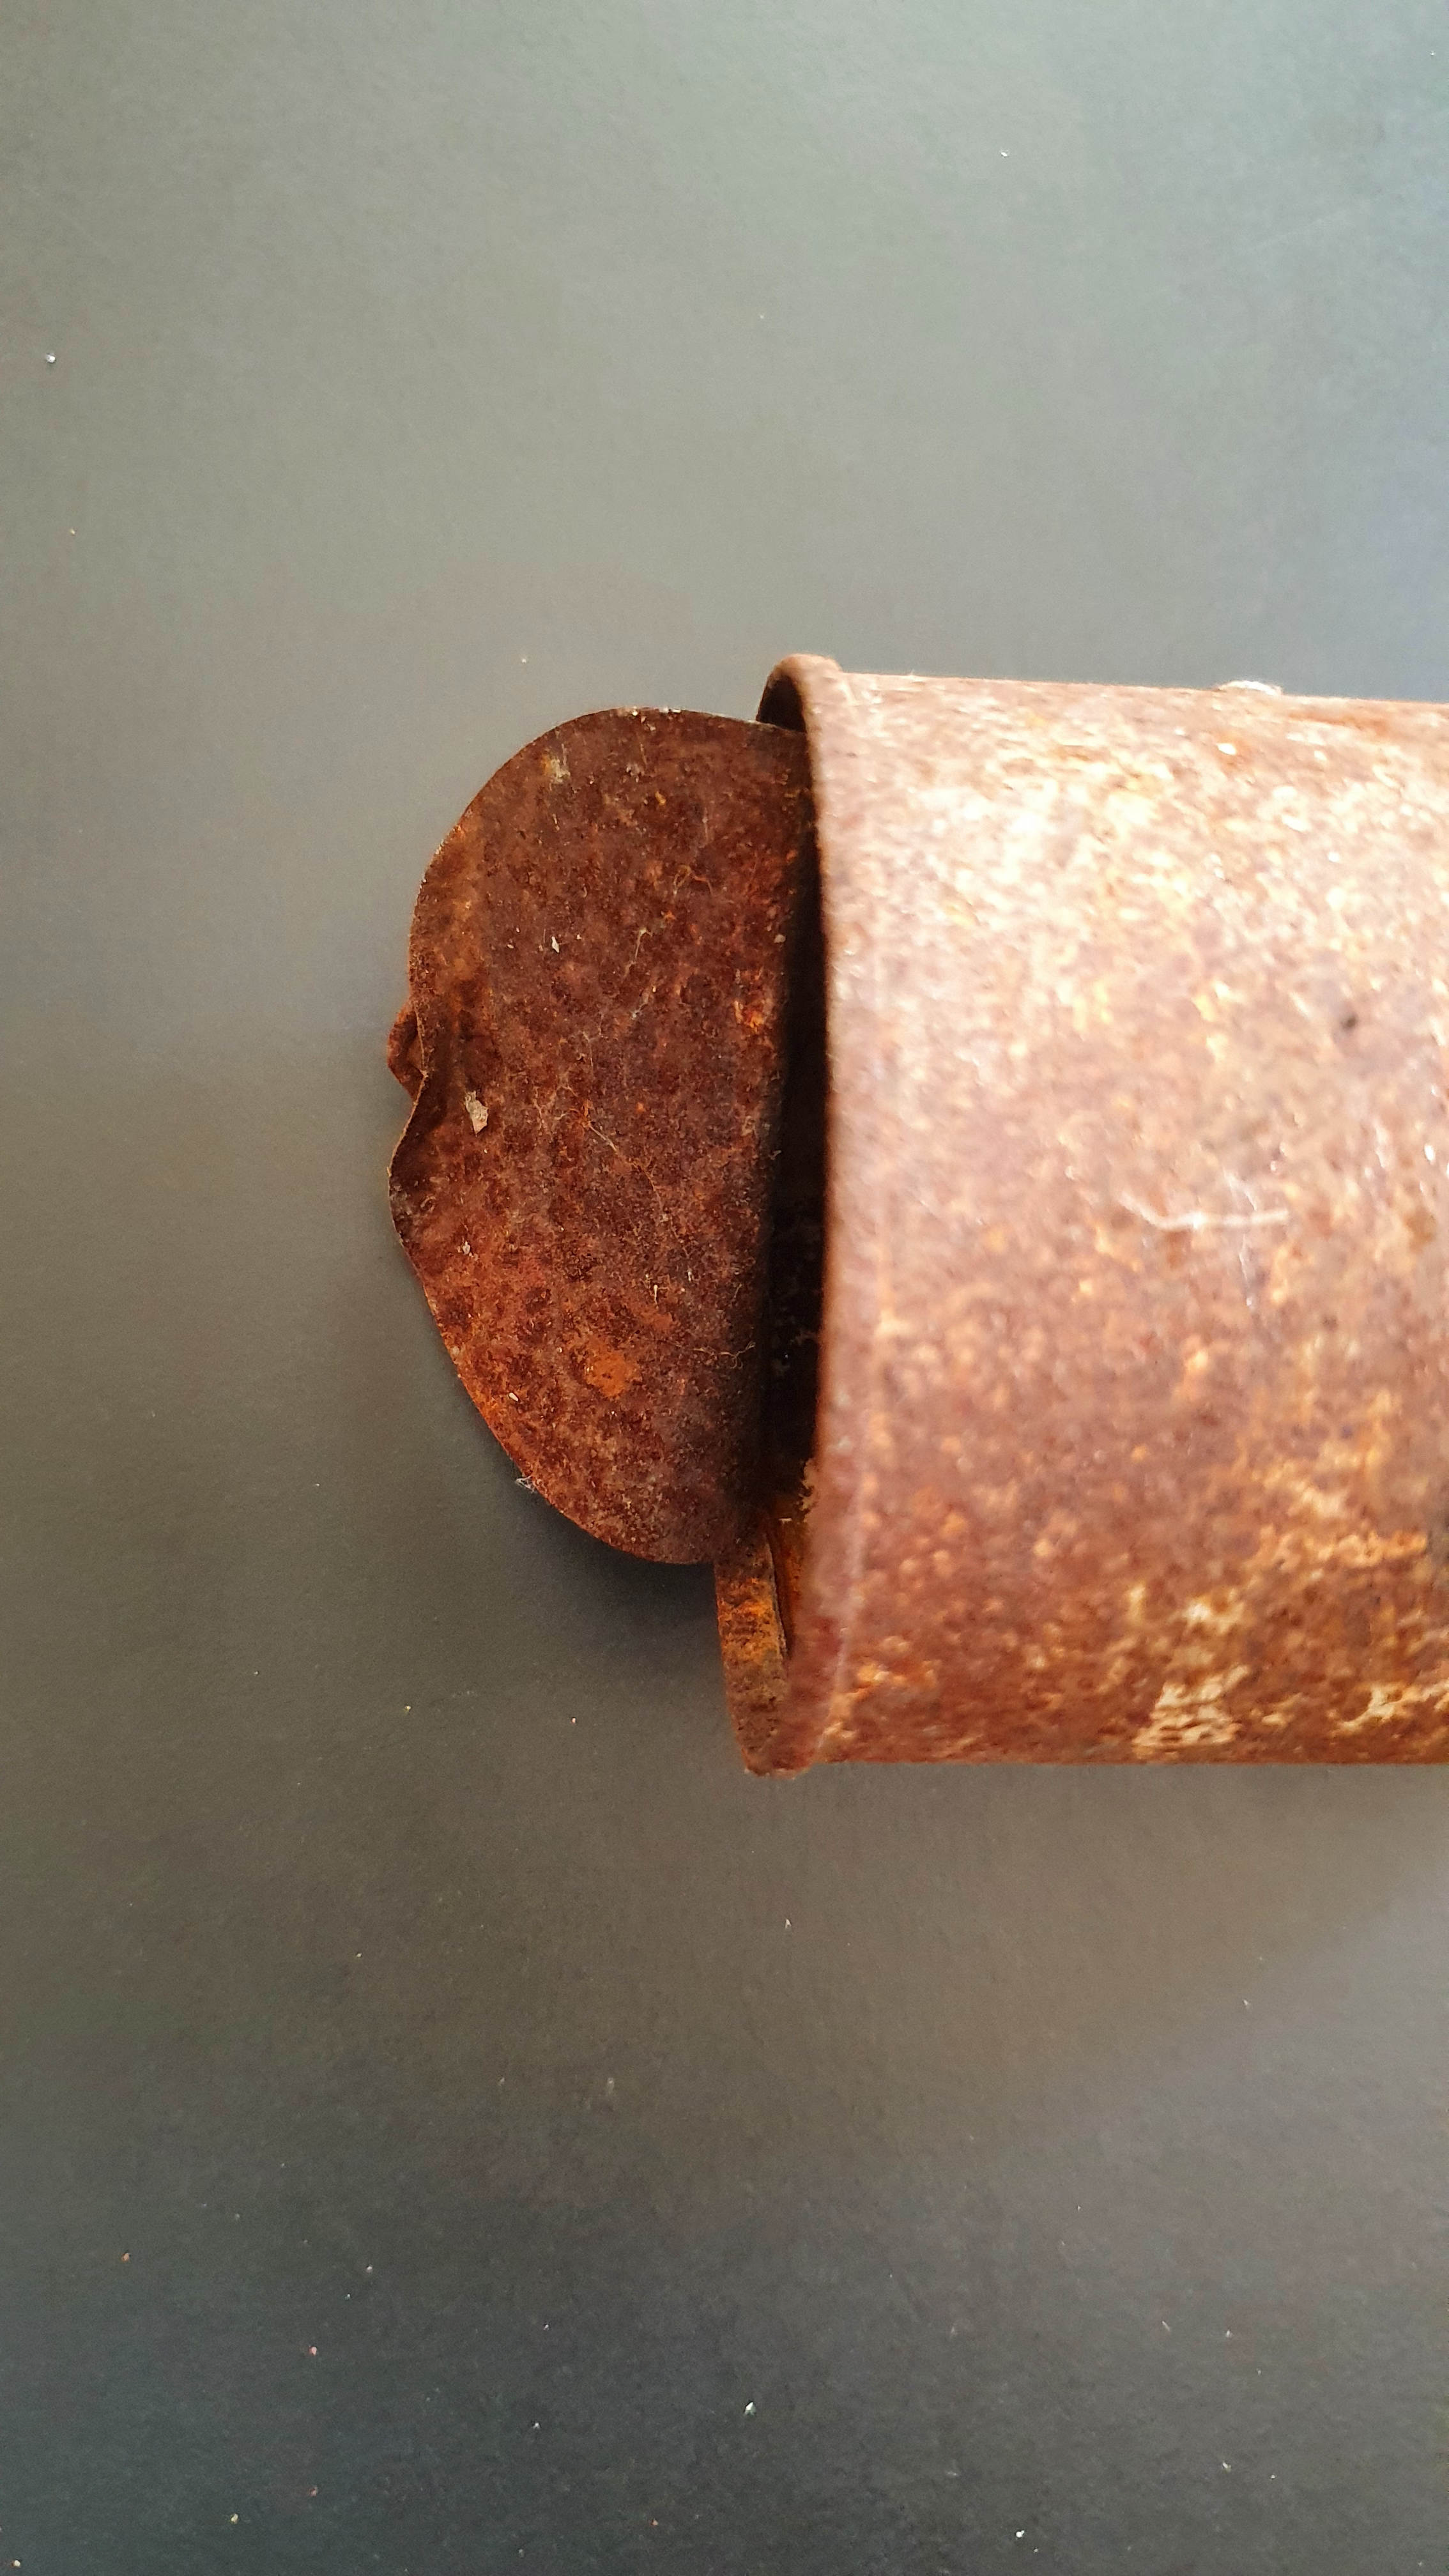metal: (354, 596, 1449, 1826)
